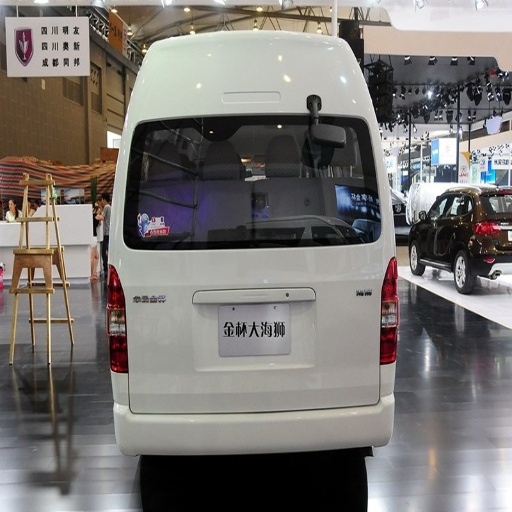back_bumper: (112, 365, 394, 456)
